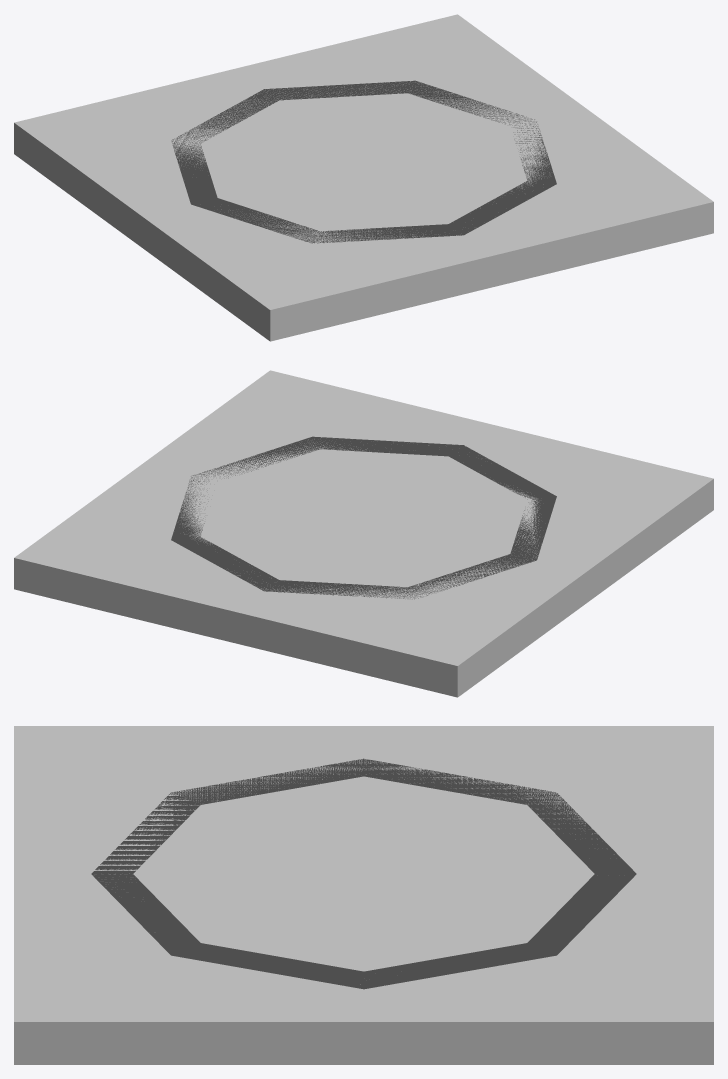
Rendered from SM_Manhole_01.fbx.
3 views of the same model, one above another, from view 1: azimuth 30°, elevation 25°; view 2: azimuth 150°, elevation 25°; view 3: azimuth 270°, elevation 25° (orthographic). The views are drawn at different scales.
Visible parts, largest first — view 1: SM_Manhole_01_ConvexHulls, SM_Manhole_01; view 2: SM_Manhole_01_ConvexHulls, SM_Manhole_01; view 3: SM_Manhole_01_ConvexHulls, SM_Manhole_01.
Part boxes in pixels (<box>): SM_Manhole_01_ConvexHulls: <box>14,14,713,341</box>; SM_Manhole_01: <box>171,80,556,243</box>; SM_Manhole_01_ConvexHulls: <box>14,370,713,697</box>; SM_Manhole_01: <box>171,436,556,599</box>; SM_Manhole_01_ConvexHulls: <box>14,726,713,1064</box>; SM_Manhole_01: <box>91,758,636,989</box>.
Size of the model in its own units: 125 by 125 by 8.47.
Materials: 2 (1 with a texture image).
